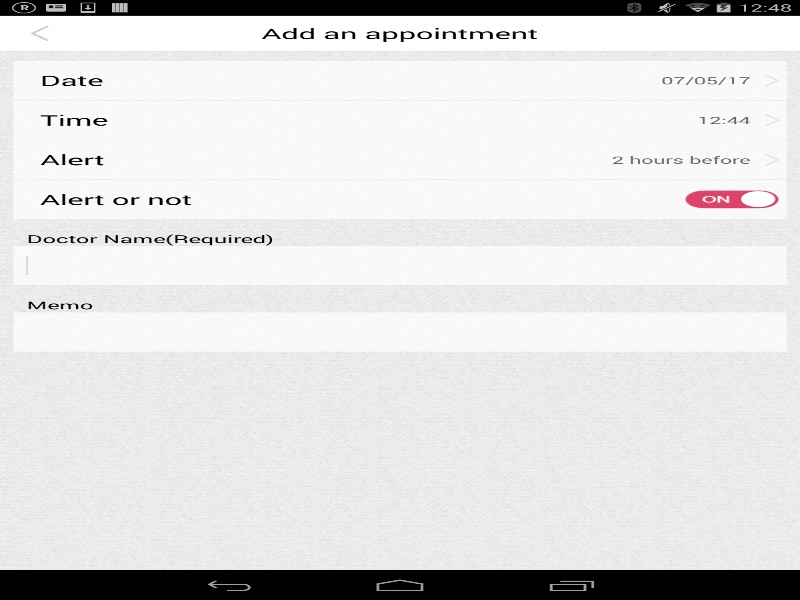Input: (13, 246, 786, 285), (13, 312, 786, 351)
